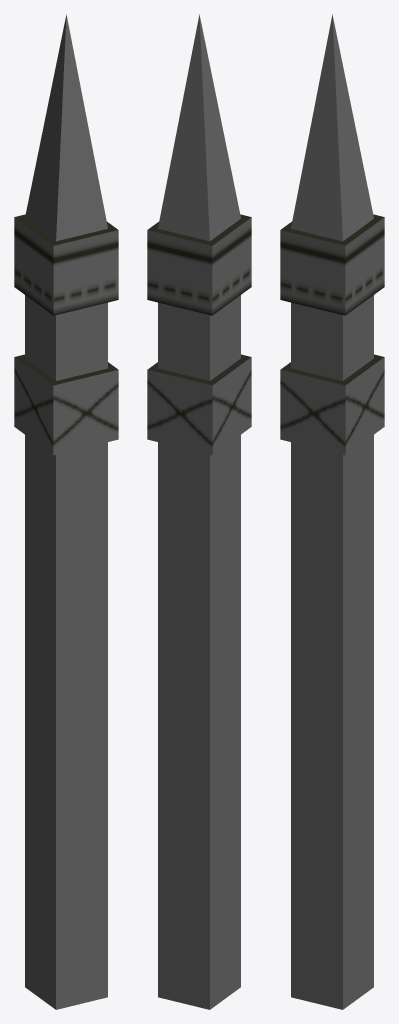
The model's file is Ruins_2.fbx.
3 renders of one model, left to right at view 1: azimuth 30°, elevation 25°; view 2: azimuth 150°, elevation 25°; view 3: azimuth 330°, elevation 25°, orthographic.
Visible parts, largest first — view 1: Ruins_2; view 2: Ruins_2; view 3: Ruins_2.
Boxes of the visible parts, x1,y1,x2,y2 form: Ruins_2: [14, 14, 118, 1009]; Ruins_2: [147, 14, 251, 1009]; Ruins_2: [280, 14, 384, 1009].
Bounding box in the file's own units: 97.5 × 1400 × 102.
